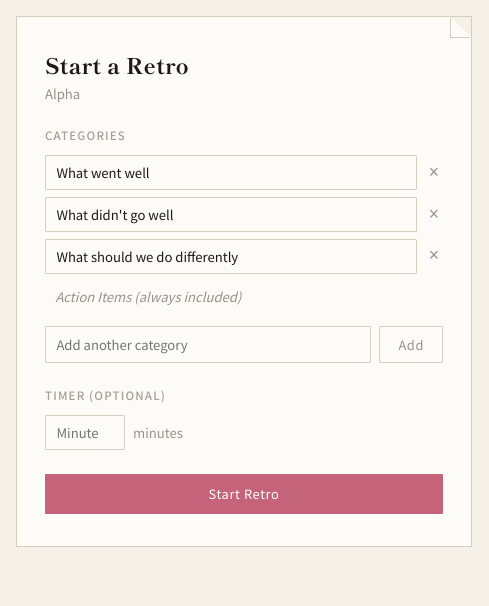
RetroSetup — category management › can add a new category
The width and height of the screenshot is (489, 606).
Type "Team morale" into the field with placeholder "Add another category" at (208, 344), box left=45, top=326, right=371, bottom=363
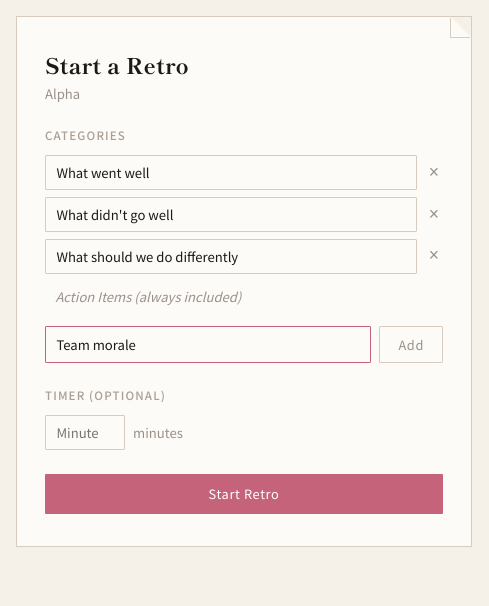
Click the button "Add" at (411, 344), box left=379, top=326, right=443, bottom=363
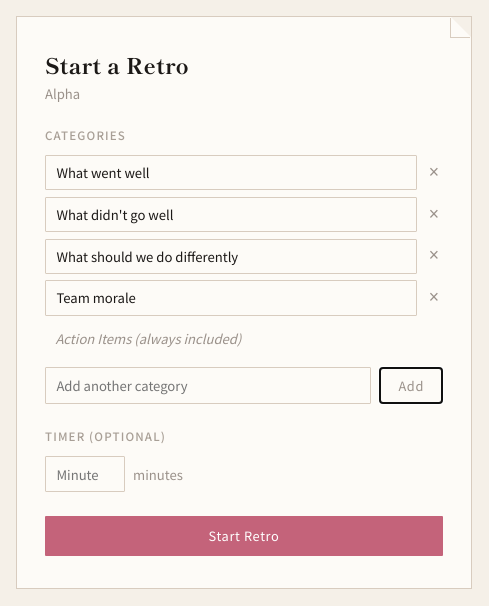
Check: the 4th field showing "Team morale" is shown, box left=45, top=280, right=417, bottom=316
